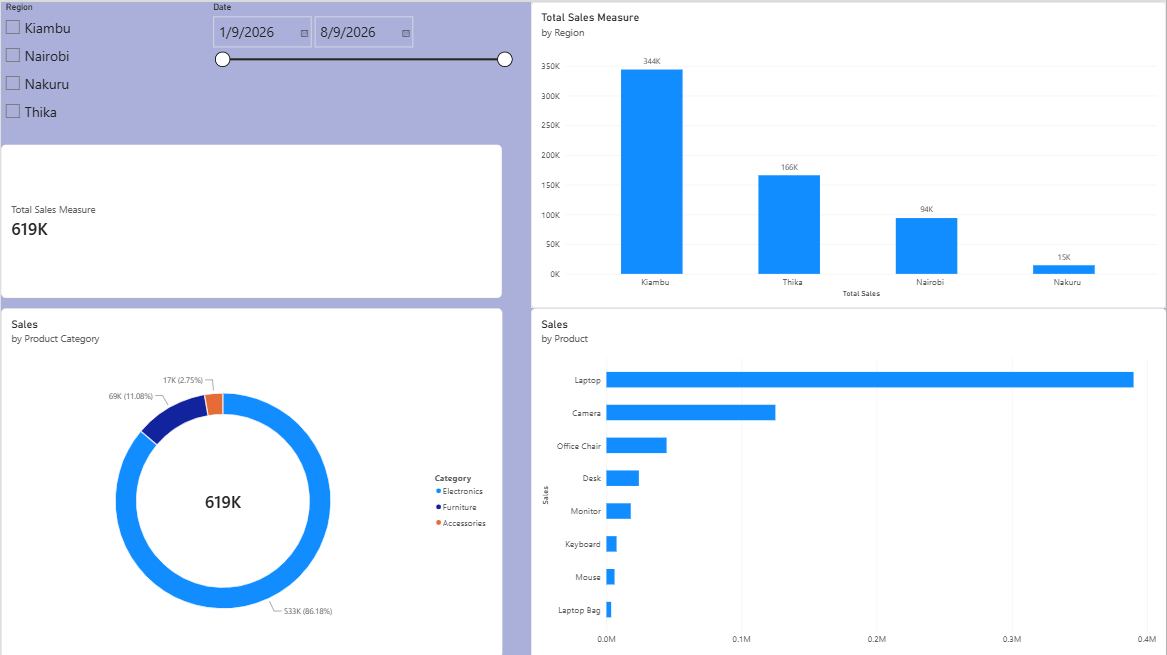

Layout of this report page (visuals, bound fields, positions):
{"tool":"powerbi","page":{"name":"Page 1","canvas":[1920,1080],"ordinal":0},"visuals":[{"type":"clusteredColumnChart","fields":{"Category":["Raw Data(2).Region"],"Y":["Raw Data(2).Total Sales Measure"]},"box":[872.7,0,1047.7,504.3],"z":0},{"type":"cardVisual","fields":{"Data":["Raw Data(2).Total Sales Measure"]},"box":[0,234.6,825.4,253.2],"z":1},{"type":"donutChart","title":"Sales","fields":{"Category":["Raw Data(2).Category"],"Y":["Raw Data(2).Total Sales Measure"]},"box":[0,504.3,825.4,576.3],"z":2},{"type":"clusteredBarChart","title":"Sales","fields":{"Category":["Raw Data(2).Product"],"Y":["Raw Data(2).Total Sales Measure"]},"box":[872.7,504.3,1047.7,576.3],"z":3},{"type":"slicer","fields":{"Values":["Raw Data(2).Region"]},"box":[0,0,314.9,193.5],"z":4},{"type":"slicer","fields":{"Values":["Raw Data(2).Date"]},"box":[341.7,0,483.7,193.5],"z":5}]}

Visuals, with their boxes in screenshot pixels (x1, y1, x2, y2), scaled from the page's 1920x1080 canvas onto the 1167x655 screenshot:
clusteredColumnChart - Raw Data(2).Region x Raw Data(2).Total Sales Measure: <bbox>530, 0, 1166, 306</bbox>
cardVisual - Raw Data(2).Total Sales Measure: <bbox>0, 142, 502, 296</bbox>
"Sales" donutChart: <bbox>0, 306, 502, 654</bbox>
"Sales" clusteredBarChart: <bbox>530, 306, 1166, 654</bbox>
slicer - Raw Data(2).Region: <bbox>0, 0, 191, 117</bbox>
slicer - Raw Data(2).Date: <bbox>208, 0, 502, 117</bbox>
